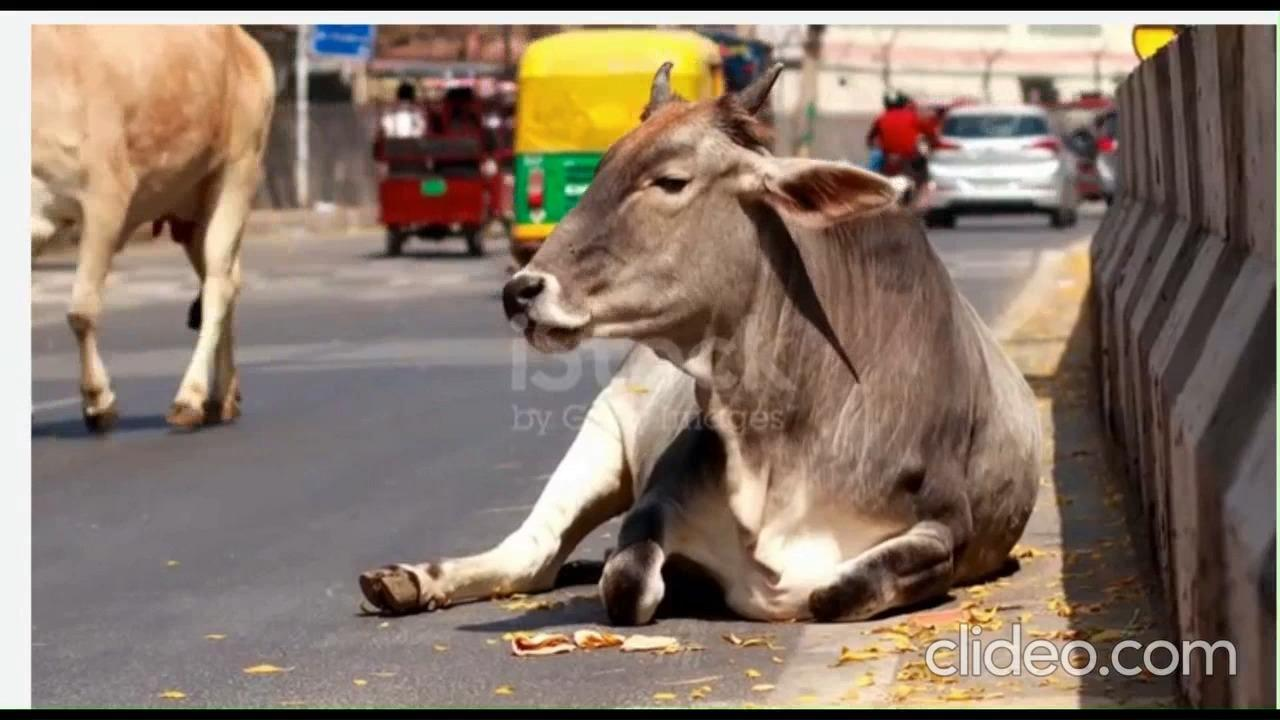Cow: (376, 54, 1064, 605)
